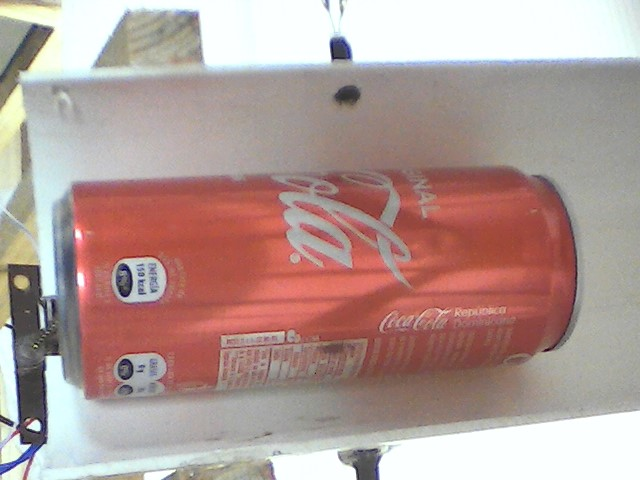lata: (45, 159, 592, 405)
